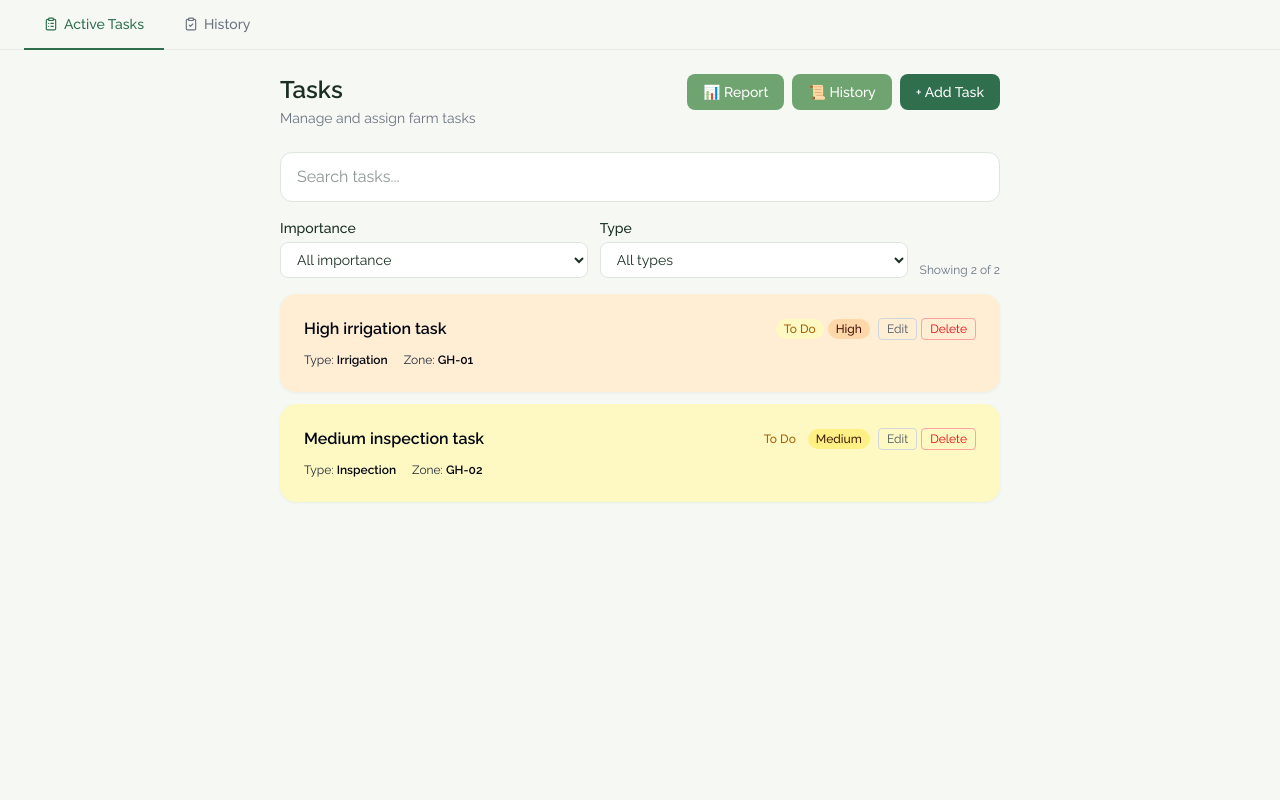
Test case: manager task delete (US42) › opens a confirmation dialog when Delete is clicked
The image size is (1280, 800).
expect the heading "High irrigation task" is shown: met, box [304, 318, 446, 340]
Click the button "Delete" in the row of "High irrigation task": (949, 329) [921, 318, 976, 340]
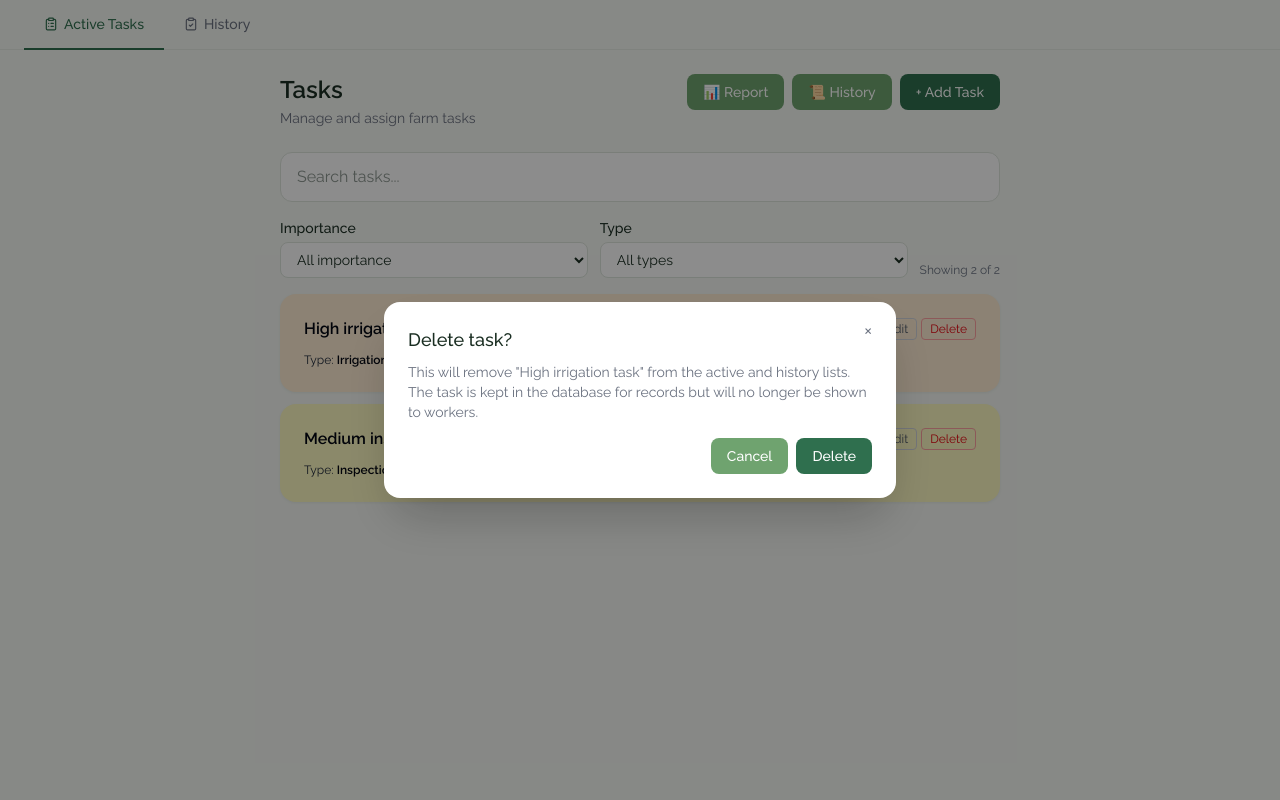
expect the heading "Delete task?" is shown: met, box [408, 329, 512, 350]
